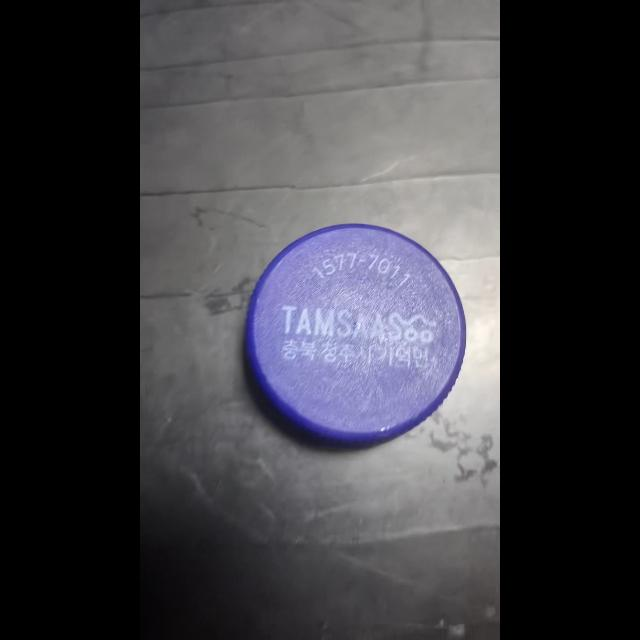plastic_bottle_cap: (242, 218, 470, 456)
